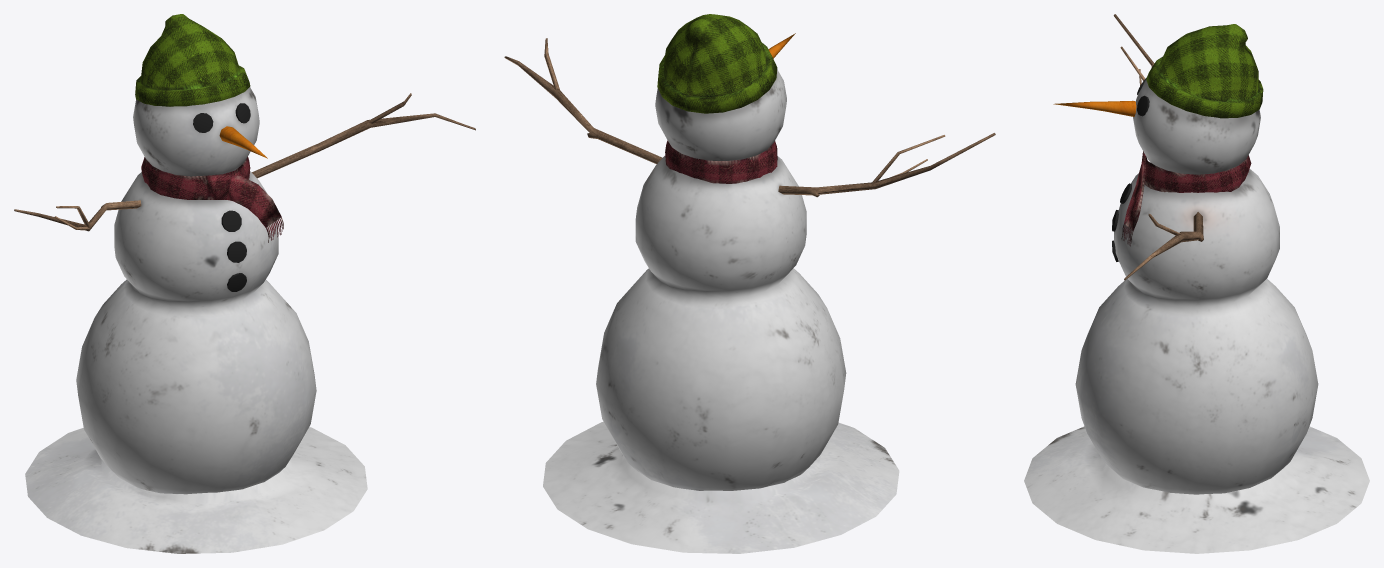
Rendered from pbr_snowman.glb.
3 renders of one model, left to right at view 1: azimuth 30°, elevation 25°; view 2: azimuth 150°, elevation 25°; view 3: azimuth 270°, elevation 25°, orthographic. The views are drawn at different scales.
Visible parts, largest first — view 1: Snowman, SnowmanBase; view 2: Snowman, SnowmanBase; view 3: Snowman, SnowmanBase.
Part boxes in pixels (<box>): Snowman: <box>14,14,475,494</box>; SnowmanBase: <box>25,427,367,553</box>; Snowman: <box>504,14,995,490</box>; SnowmanBase: <box>543,421,899,553</box>; Snowman: <box>1053,14,1318,494</box>; SnowmanBase: <box>1024,426,1369,553</box>.
Size of the model in its own units: 2.37 by 2.2 by 1.51.
Materials: 2 (2 with a texture image).
